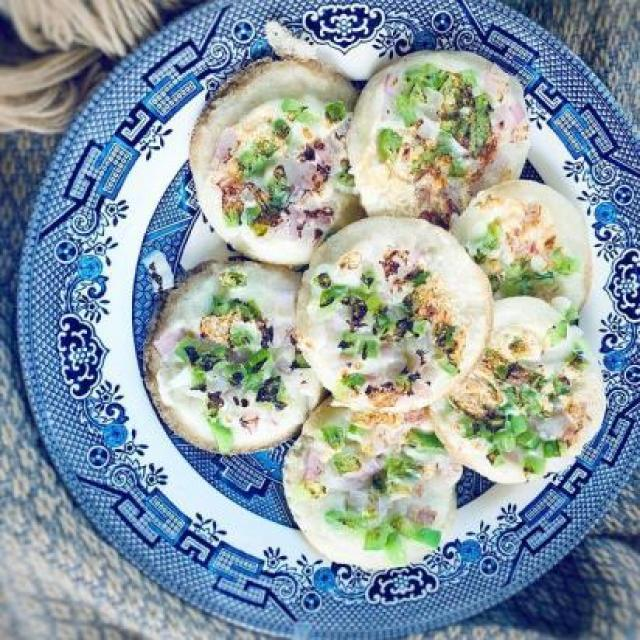dosa-uttapam: (290, 207, 498, 403), (187, 56, 375, 266), (142, 254, 330, 453), (418, 293, 606, 488), (281, 390, 468, 575), (348, 42, 534, 227), (439, 176, 599, 316)
